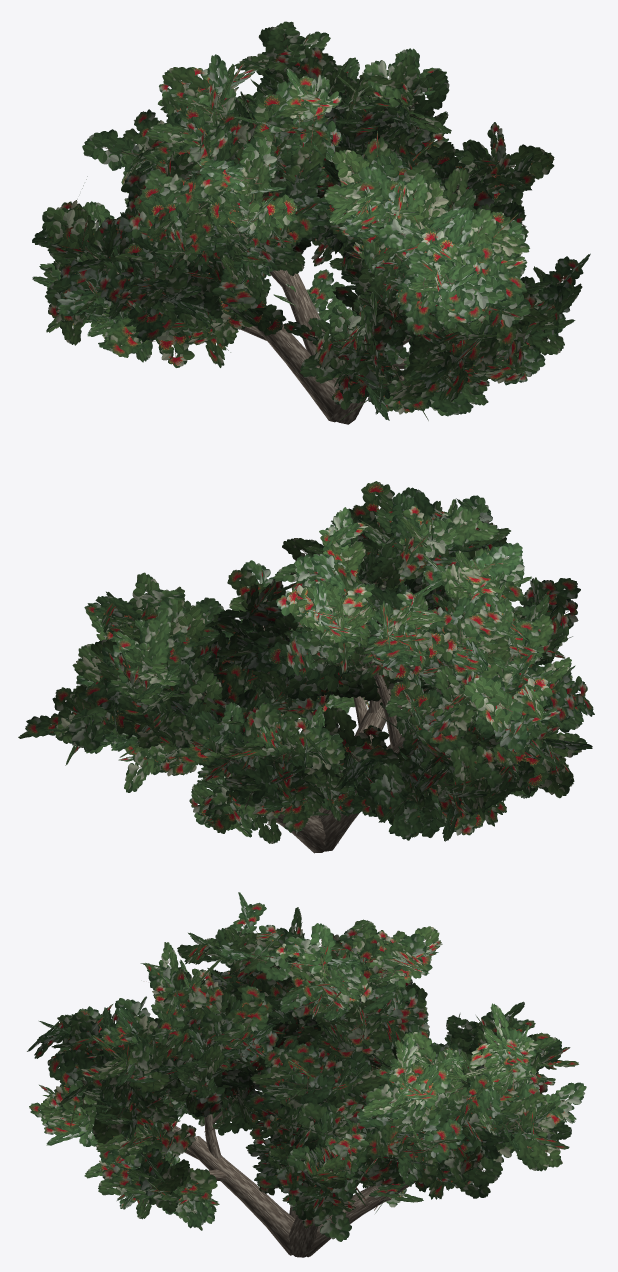
Rendered from pohutukawa-flowering.glb.
The picture shows the model from 3 angles, top to bottom: view 1: azimuth 30°, elevation 25°; view 2: azimuth 150°, elevation 25°; view 3: azimuth 270°, elevation 25°; orthographic projection. The views are drawn at different scales.
Parts seen in each view (by area): view 1: pohutukawa; view 2: pohutukawa; view 3: pohutukawa.
Boxes of the visible parts, bbox=[...] form: pohutukawa: bbox=[32, 21, 590, 424]; pohutukawa: bbox=[18, 481, 594, 853]; pohutukawa: bbox=[27, 892, 586, 1257].
Bounding box in the file's own units: 19.77 × 13.25 × 21.6.
Materials: 2 (2 with a texture image).
